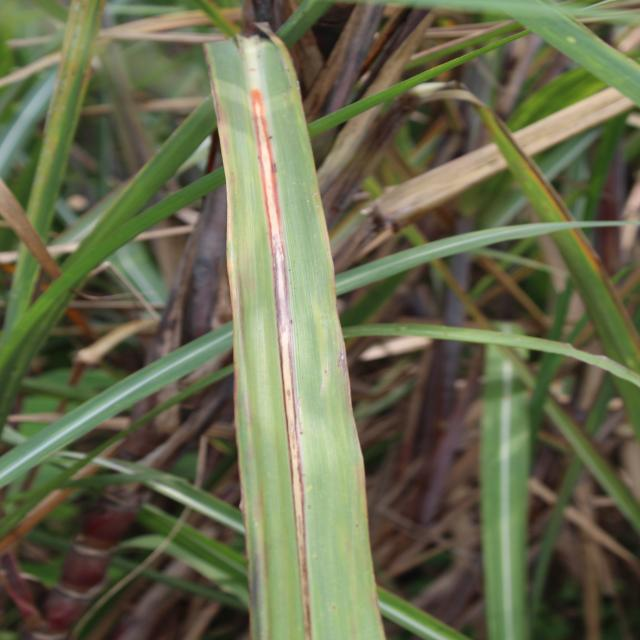Sugarcane: (212, 20, 387, 635), (5, 1, 107, 392), (229, 377, 317, 640), (476, 355, 514, 639)
